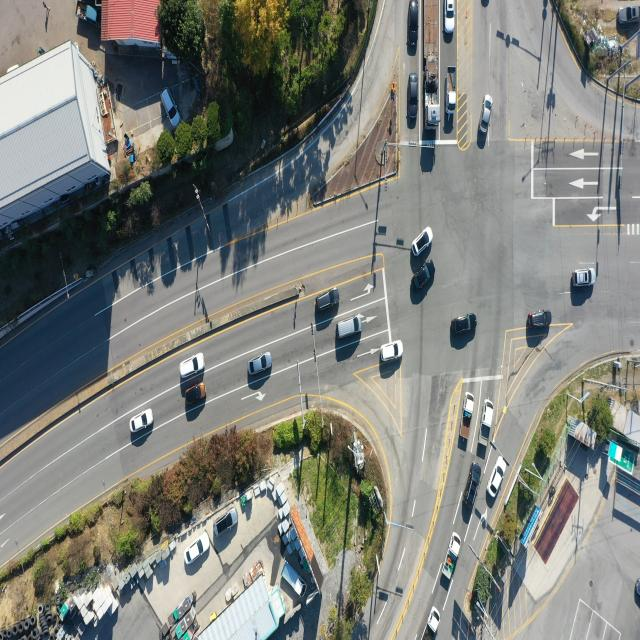car: (186, 530, 210, 567), (160, 90, 180, 132), (488, 458, 508, 499), (467, 464, 484, 509), (413, 262, 436, 292), (180, 352, 204, 379), (406, 0, 419, 49), (412, 227, 433, 257), (215, 510, 237, 538), (247, 352, 272, 376), (338, 314, 363, 338), (131, 410, 154, 434), (409, 75, 420, 125), (318, 289, 342, 311), (481, 95, 494, 135), (526, 311, 552, 330), (380, 342, 403, 363), (452, 314, 476, 334), (183, 384, 204, 404), (618, 5, 640, 24), (574, 269, 597, 287), (446, 0, 456, 33), (635, 580, 640, 609), (482, 0, 491, 9)
large_truck: (423, 0, 440, 128)
small_truck: (440, 533, 460, 584), (282, 560, 306, 594), (481, 399, 495, 448), (461, 394, 473, 440), (74, 0, 99, 22), (445, 67, 456, 112), (428, 603, 441, 633)
